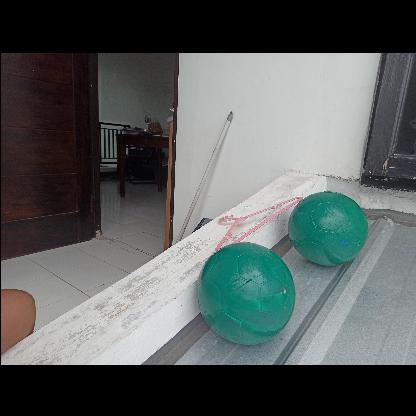green_ball: (194, 238, 298, 342), (289, 186, 367, 264)
